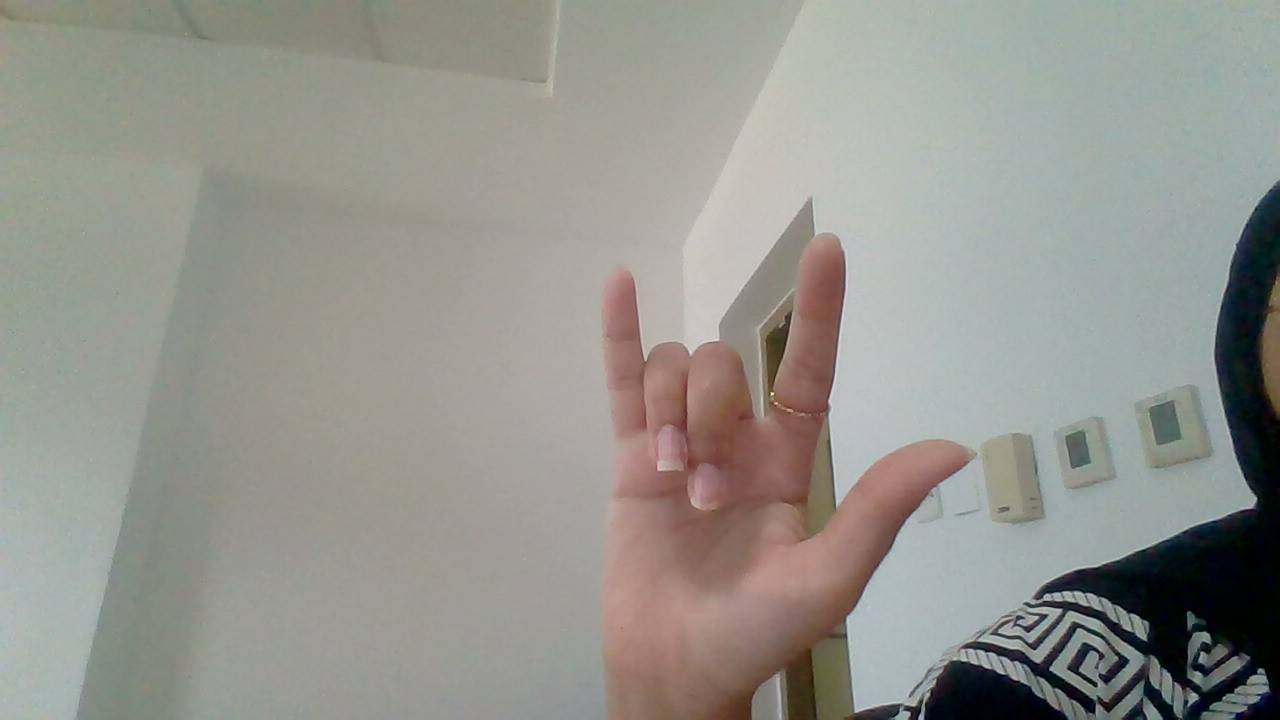love: (532, 218, 993, 686)
